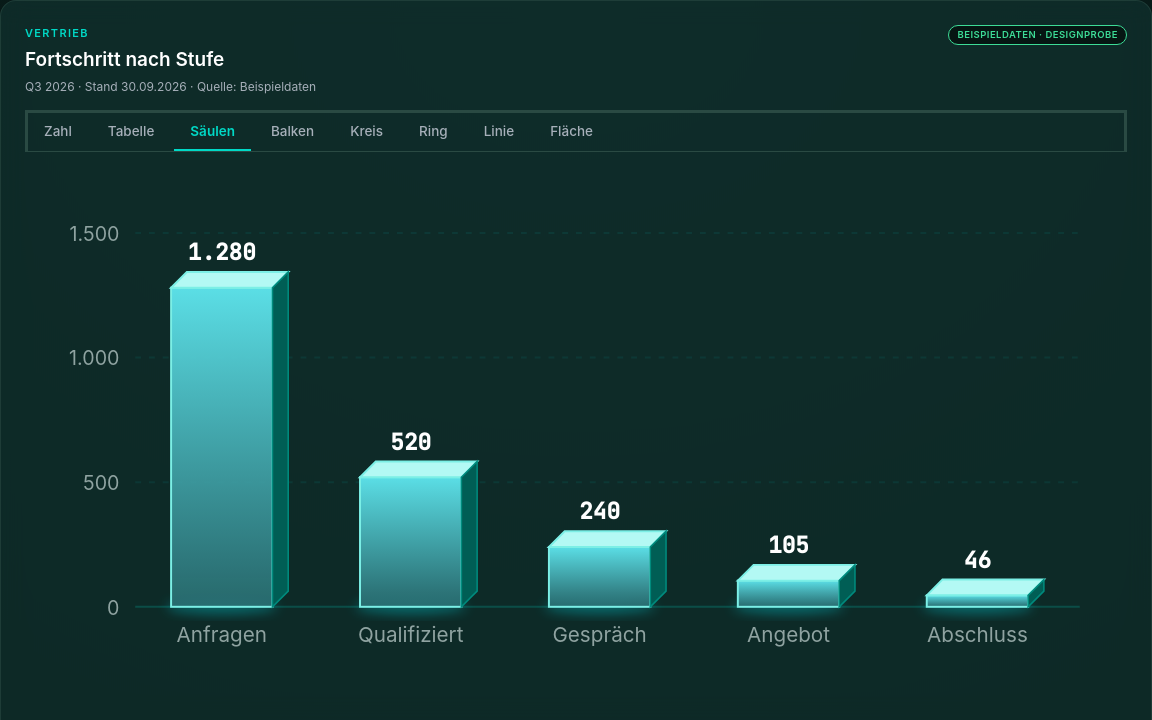
Test case: DashboardDesignPreview › wählt bei der Linie einen Zeitpunkt per Regler (Tastatur und Touch)
Step 1. Click the tab "Linie" → x=499, y=132, box [468,113,530,151]
(page scrolled)
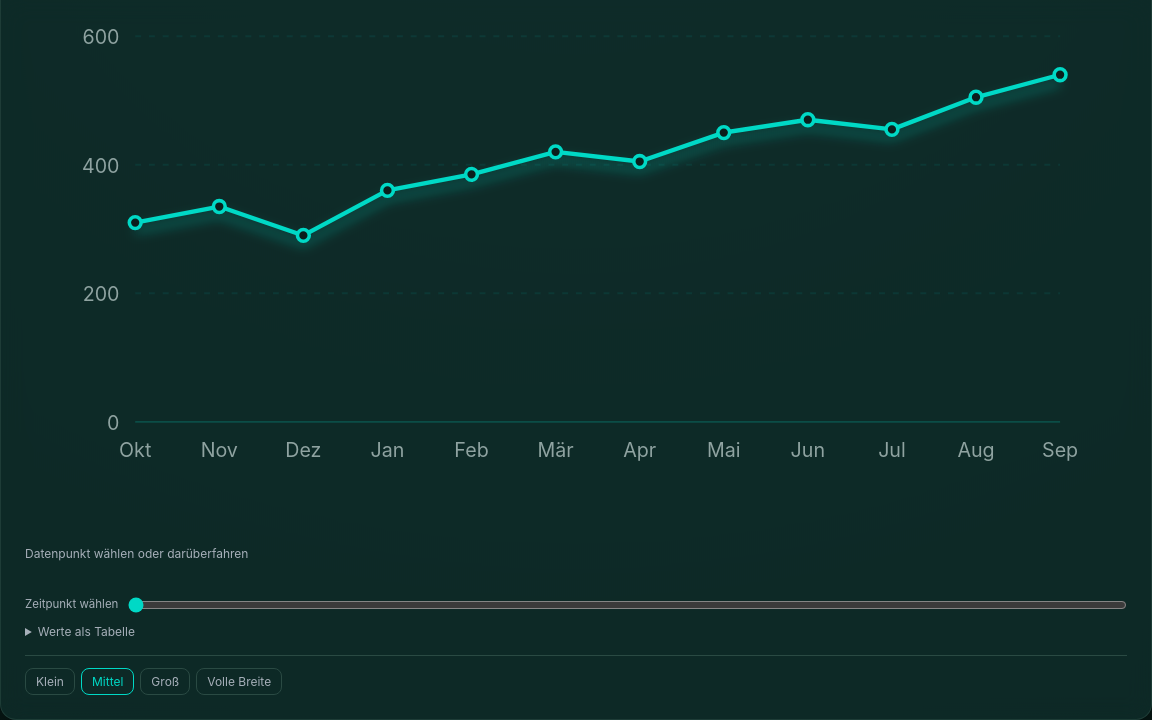
Step 2. Set the slider to "11" → x=1119, y=605, box [128,597,1127,613]
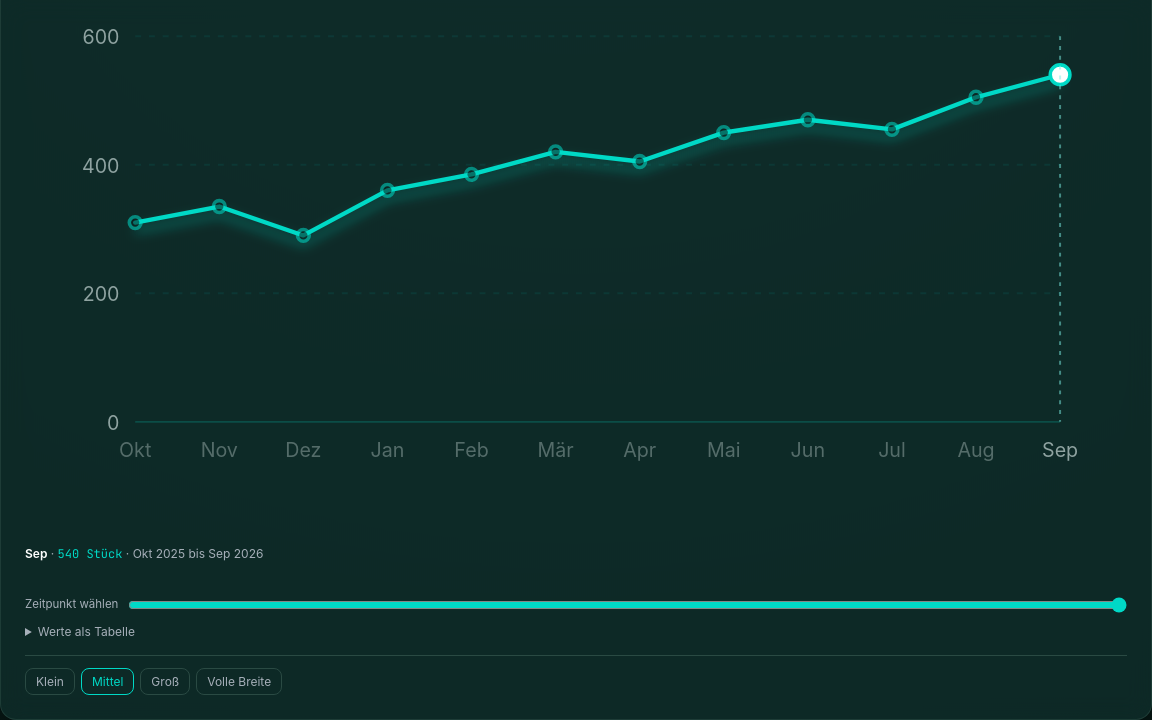
Check: the message with test id "chart-readout" shows "Sep", box [25,546,47,561]
Check: the message with test id "chart-readout" shows "540 Stück", box [58,546,122,562]
Check: the message with test id "chart-readout" shows "Okt 2025 bis Sep 2026", box [133,546,263,561]
